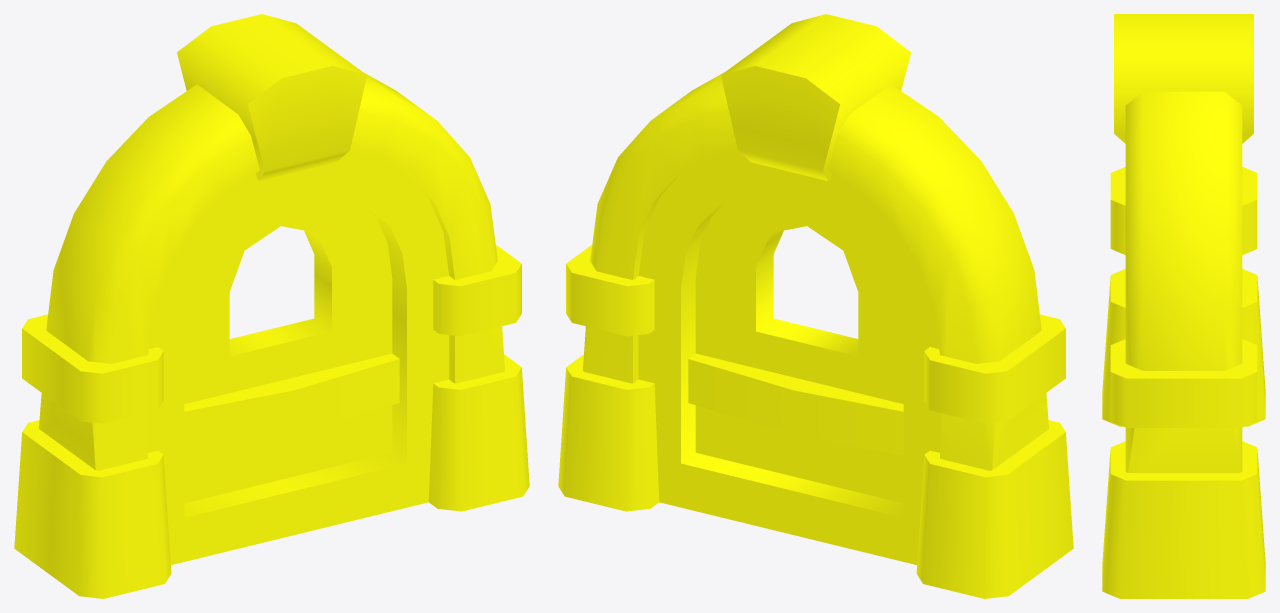
File: 围墙门楼_门_带窗门.glb
The picture shows the model from 3 angles, left to right: view 1: azimuth 30°, elevation 25°; view 2: azimuth 150°, elevation 25°; view 3: azimuth 270°, elevation 25°; orthographic projection.
Parts seen in each view (by area): view 1: gate-door-window, door; view 2: gate-door-window, door; view 3: gate-door-window.
Boxes of the visible parts, left/top/right/bottom form: gate-door-window: left=14, top=14, right=529, bottom=598; door: left=148, top=151, right=449, bottom=564; gate-door-window: left=558, top=14, right=1073, bottom=598; door: left=638, top=151, right=939, bottom=564; gate-door-window: left=1102, top=14, right=1265, bottom=598.
Size of the model in its own units: 4.4 by 4.4 by 1.4.
1 material, 1 textured.
